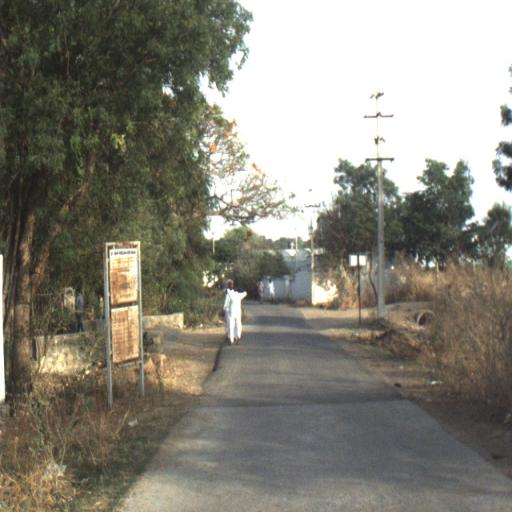street_light_0: (298, 214, 314, 236)
